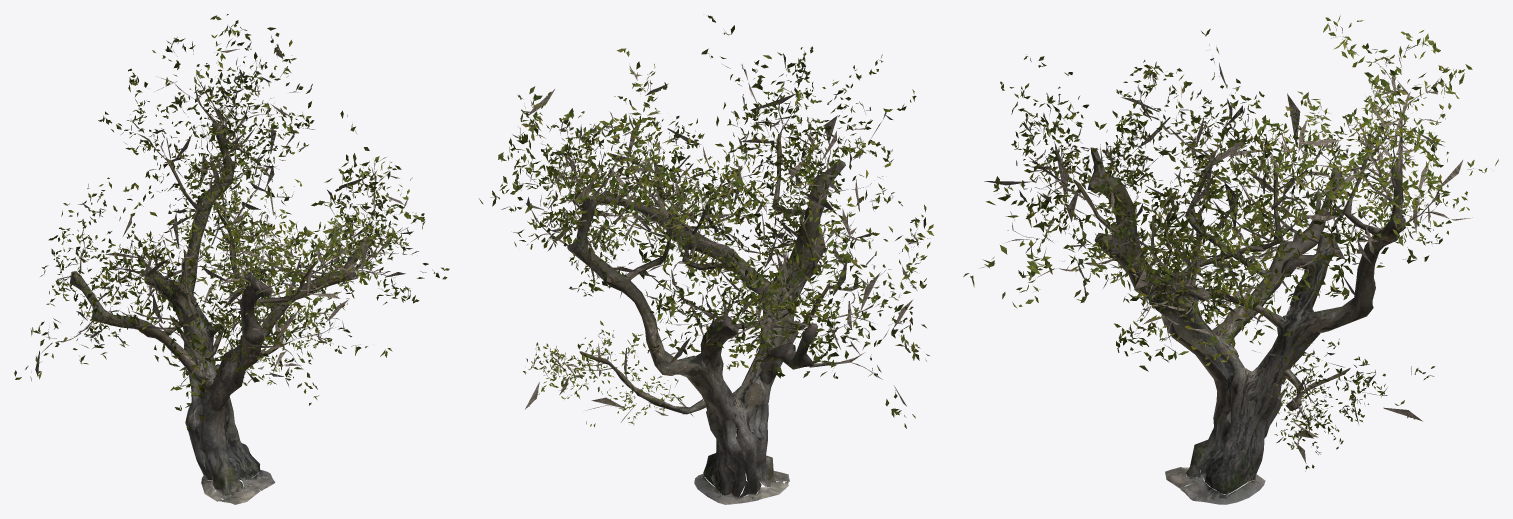
Rendered from olive.glb.
3 renders of one model, left to right at view 1: azimuth 30°, elevation 25°; view 2: azimuth 150°, elevation 25°; view 3: azimuth 270°, elevation 25°, orthographic. The views are drawn at different scales.
Parts seen in each view (by area): view 1: island_trees_01_blockout_cleaned; view 2: island_trees_01_blockout_cleaned; view 3: island_trees_01_blockout_cleaned.
Part boxes in pixels (x1,y1,x2,y2): island_trees_01_blockout_cleaned: (14,14,449,504); island_trees_01_blockout_cleaned: (479,15,933,504); island_trees_01_blockout_cleaned: (963,15,1498,504).
Bounding box in the file's own units: 4.69 × 4.95 × 4.81.
Materials: 3 (3 with a texture image).
